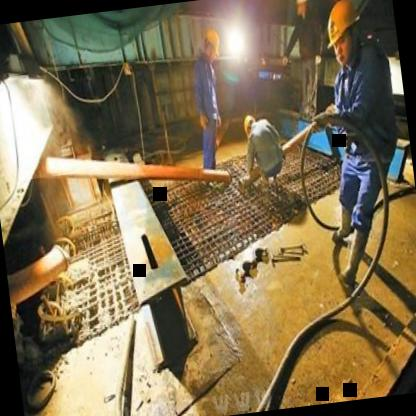helmet: (320, 0, 365, 68), (199, 22, 224, 66), (240, 112, 258, 140), (293, 0, 310, 17)
